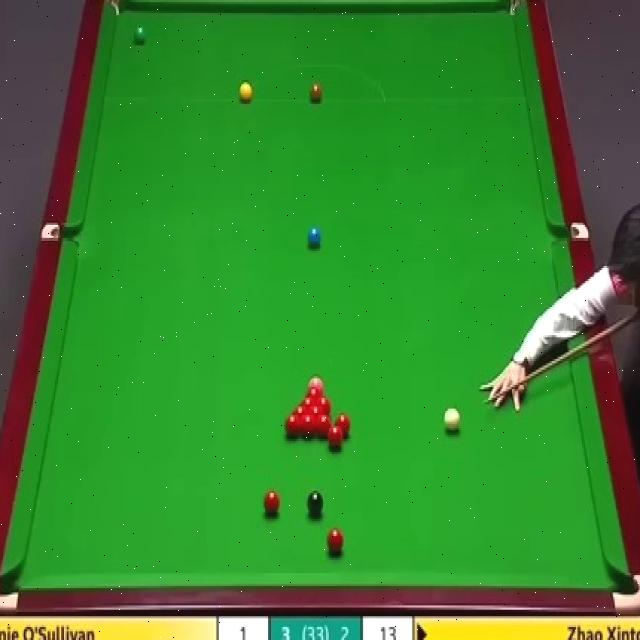black-ball: (308, 491, 324, 518)
blue-ball: (307, 227, 322, 248)
brown-ball: (308, 84, 322, 104)
green-ball: (134, 26, 146, 45)
pink-ball: (307, 374, 326, 389)
red-ball: (326, 527, 343, 556), (263, 491, 280, 516), (284, 413, 300, 438), (316, 414, 332, 439), (335, 414, 350, 438), (300, 414, 315, 436), (328, 427, 342, 450), (317, 395, 331, 413), (304, 384, 322, 395), (299, 396, 316, 406), (292, 406, 308, 415), (308, 406, 324, 414)
white-ball: (444, 404, 462, 436)
yellow-ball: (238, 81, 252, 101)
